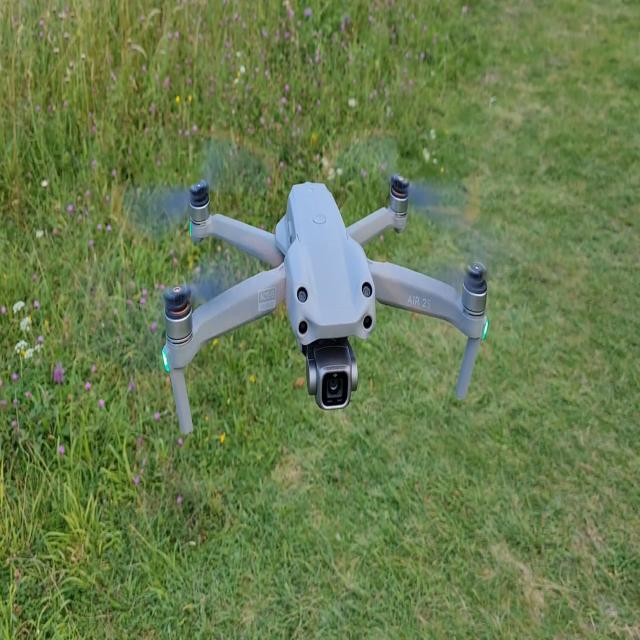drone: (161, 172, 489, 435)
